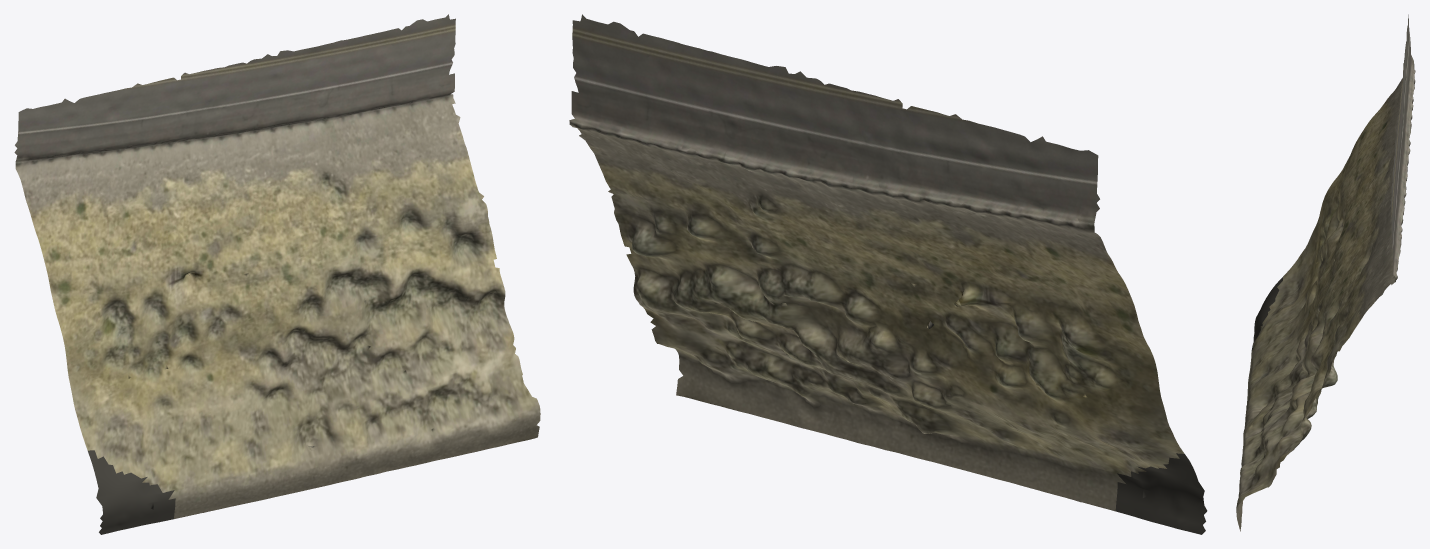
File: tile_51.obj
3 views of the same model, side by side, from view 1: azimuth 30°, elevation 25°; view 2: azimuth 150°, elevation 25°; view 3: azimuth 270°, elevation 25° (orthographic). The views are drawn at different scales.
Size of the model in its own units: 1.97 by 1.59 by 0.7764.
Materials: 1 (1 with a texture image).
